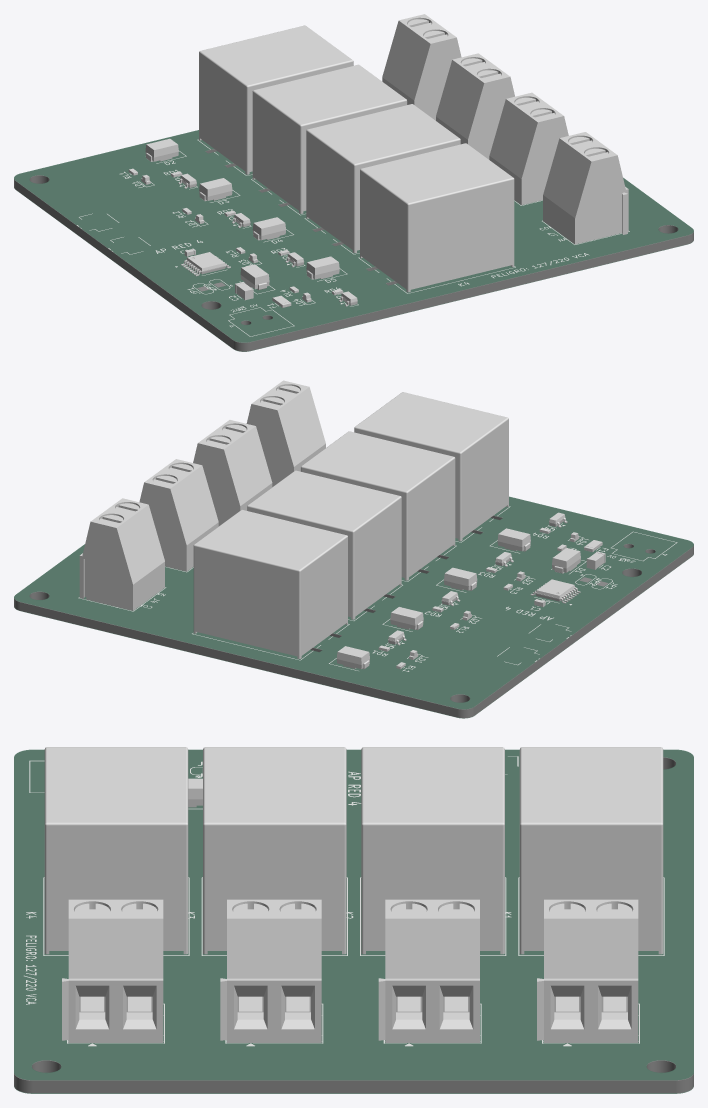
The model's file is AP_RED4.glb.
3 renders of one model, top to bottom at view 1: azimuth 30°, elevation 25°; view 2: azimuth 150°, elevation 25°; view 3: azimuth 270°, elevation 25°, orthographic. The views are drawn at different scales.
Visible parts, largest first — view 1: =>[0:1:1:16], =>[0:1:1:14], K4, K2, K1, K3, J7, J6, J5, J4, =>[0:1:1:12], U1 (+6 smaller); view 2: =>[0:1:1:16], =>[0:1:1:14], K1, K3, K2, K4, J4, J5, J6, J7, =>[0:1:1:12], U1 (+6 smaller); view 3: =>[0:1:1:16], =>[0:1:1:14], K1, K4, K3, K2, J7, J5, J6, J4, =>[0:1:1:12], =>[0:1:1:15].
Part boxes in pixels (bbox=[...]): =>[0:1:1:16]: bbox=[14, 131, 693, 351]; =>[0:1:1:14]: bbox=[14, 130, 693, 342]; K4: bbox=[360, 143, 514, 292]; K2: bbox=[252, 64, 407, 213]; K1: bbox=[199, 25, 353, 174]; K3: bbox=[306, 104, 460, 253]; J7: bbox=[543, 132, 628, 244]; J6: bbox=[489, 92, 568, 205]; J5: bbox=[436, 53, 514, 159]; J4: bbox=[382, 14, 461, 120]; =>[0:1:1:12]: bbox=[77, 139, 629, 336]; U1: bbox=[181, 252, 230, 276]; =>[0:1:1:16]: bbox=[14, 497, 693, 718]; =>[0:1:1:14]: bbox=[14, 496, 693, 709]; K1: bbox=[193, 509, 347, 658]; K3: bbox=[300, 431, 455, 580]; K2: bbox=[247, 470, 401, 619]; K4: bbox=[354, 392, 508, 541]; J4: bbox=[79, 498, 164, 610]; J5: bbox=[139, 459, 218, 571]; J6: bbox=[193, 420, 272, 525]; J7: bbox=[246, 380, 325, 486]; =>[0:1:1:12]: bbox=[78, 506, 677, 671]; U1: bbox=[530, 579, 580, 603]; =>[0:1:1:16]: bbox=[14, 750, 693, 1093]; =>[0:1:1:14]: bbox=[14, 749, 693, 1080]; K1: bbox=[519, 747, 663, 954]; K4: bbox=[44, 747, 188, 954]; K3: bbox=[203, 747, 346, 954]; K2: bbox=[361, 747, 504, 954]; J7: bbox=[62, 899, 163, 1042]; J5: bbox=[378, 899, 479, 1042]; J6: bbox=[220, 899, 321, 1042]; J4: bbox=[537, 899, 638, 1042]; =>[0:1:1:12]: bbox=[24, 756, 664, 1046]; =>[0:1:1:15]: bbox=[14, 1086, 693, 1093].
Size of the model in its own units: 0.084 by 0.0191 by 0.073.
